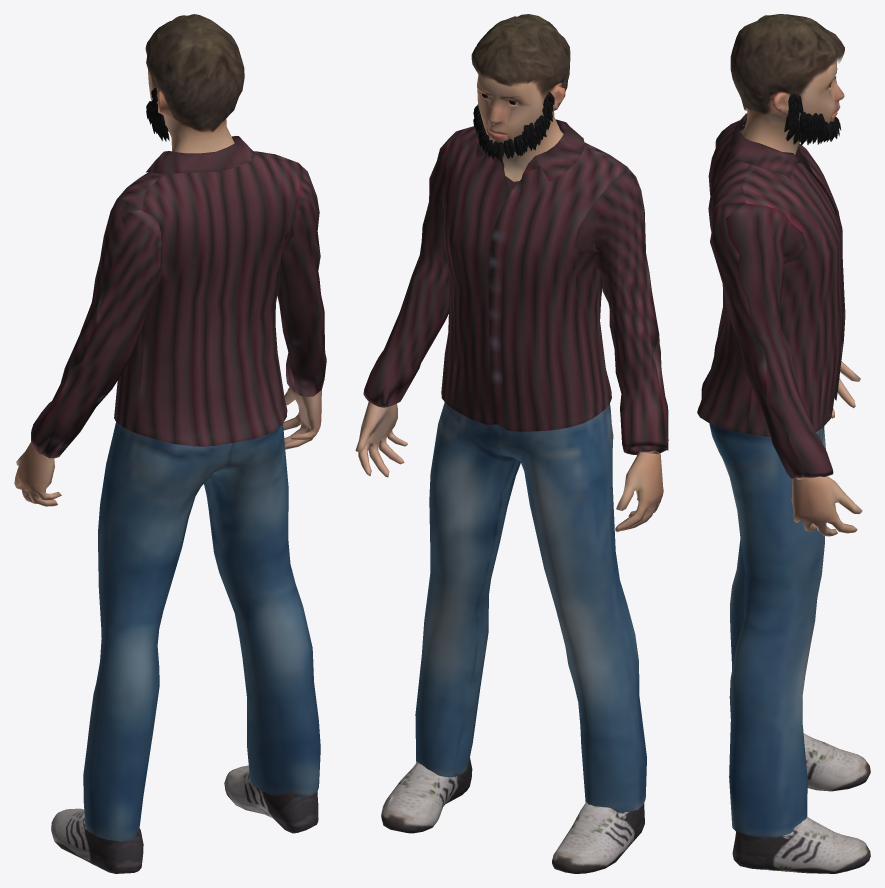
Rendered from casual_shirt_standing.glb.
3 views of the same model, side by side, from view 1: azimuth 30°, elevation 25°; view 2: azimuth 150°, elevation 25°; view 3: azimuth 270°, elevation 25° (orthographic).
Parts seen in each view (by area): view 1: Human_atlas; view 2: Human_atlas; view 3: Human_atlas.
Part boxes in pixels (box(x1,y1,x2,y2)): Human_atlas: box(14, 14, 326, 873); Human_atlas: box(355, 14, 668, 873); Human_atlas: box(697, 14, 870, 873).
Size of the model in its own units: 0.6452 by 1.71 by 0.3321.
1 material, 1 textured.
